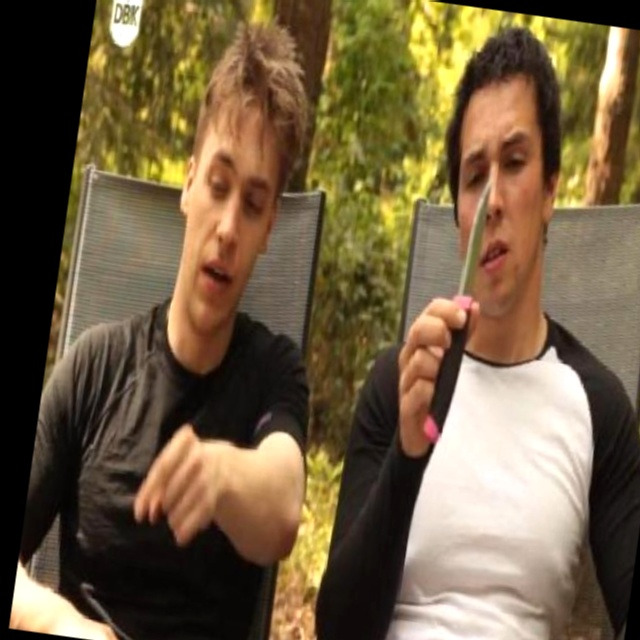Sharp-Object: (422, 173, 496, 443)
